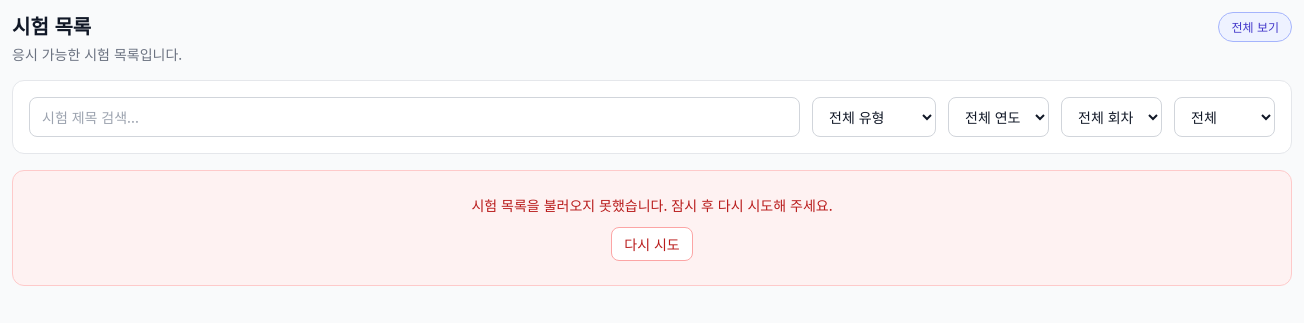
사용자 시험 서버 목록 › 조회 실패를 표시하고 같은 조건으로 재시도한다
expect the message "시험 목록을 불러오지 못했습니다. 잠시 후 다시 시도해 주세요. 다시 시도" is shown: met, box left=12, top=170, right=1292, bottom=286
Click the button "다시 시도": (652, 244) left=611, top=227, right=693, bottom=261
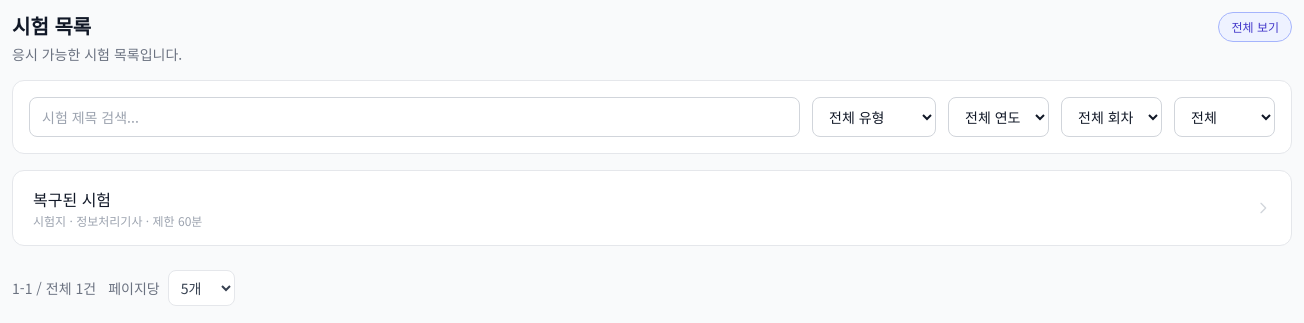
expect the text "복구된 시험" is shown: met, box left=33, top=187, right=111, bottom=211
